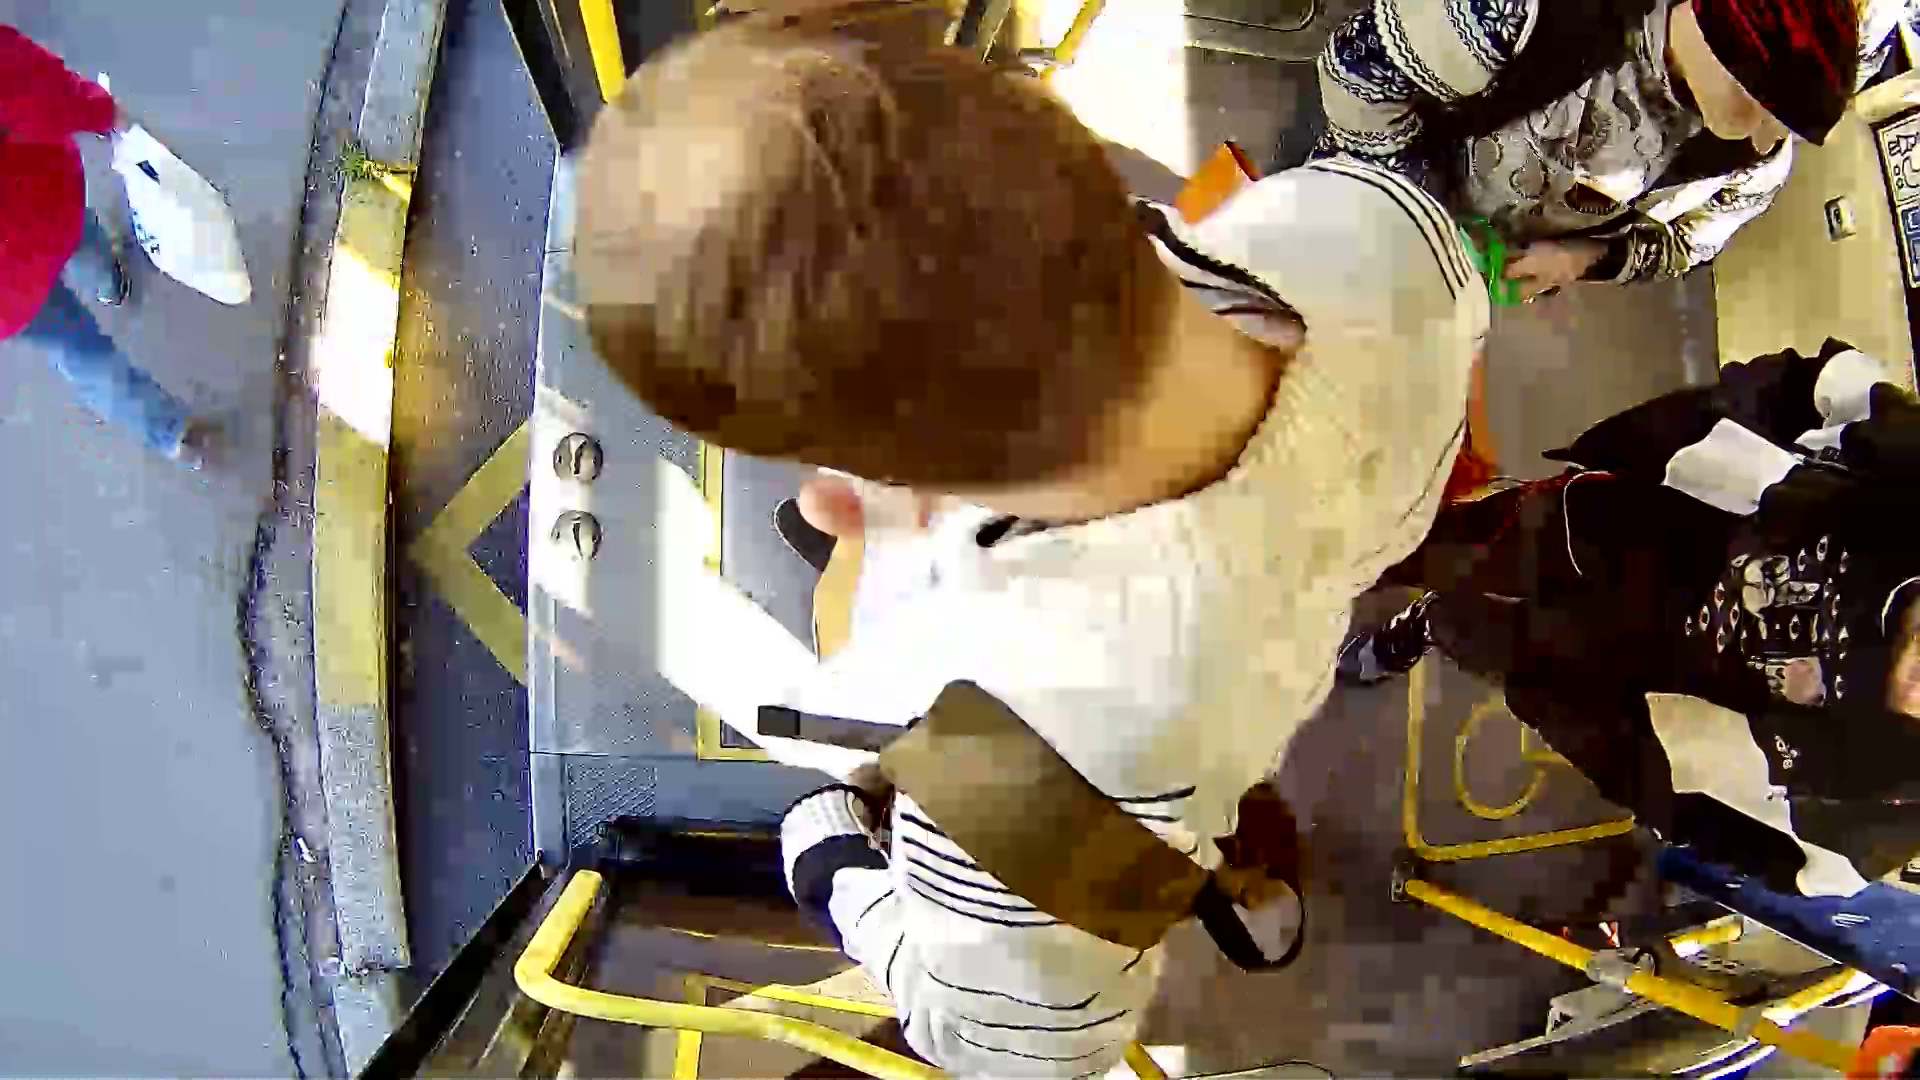person: (568, 26, 1484, 1006)
